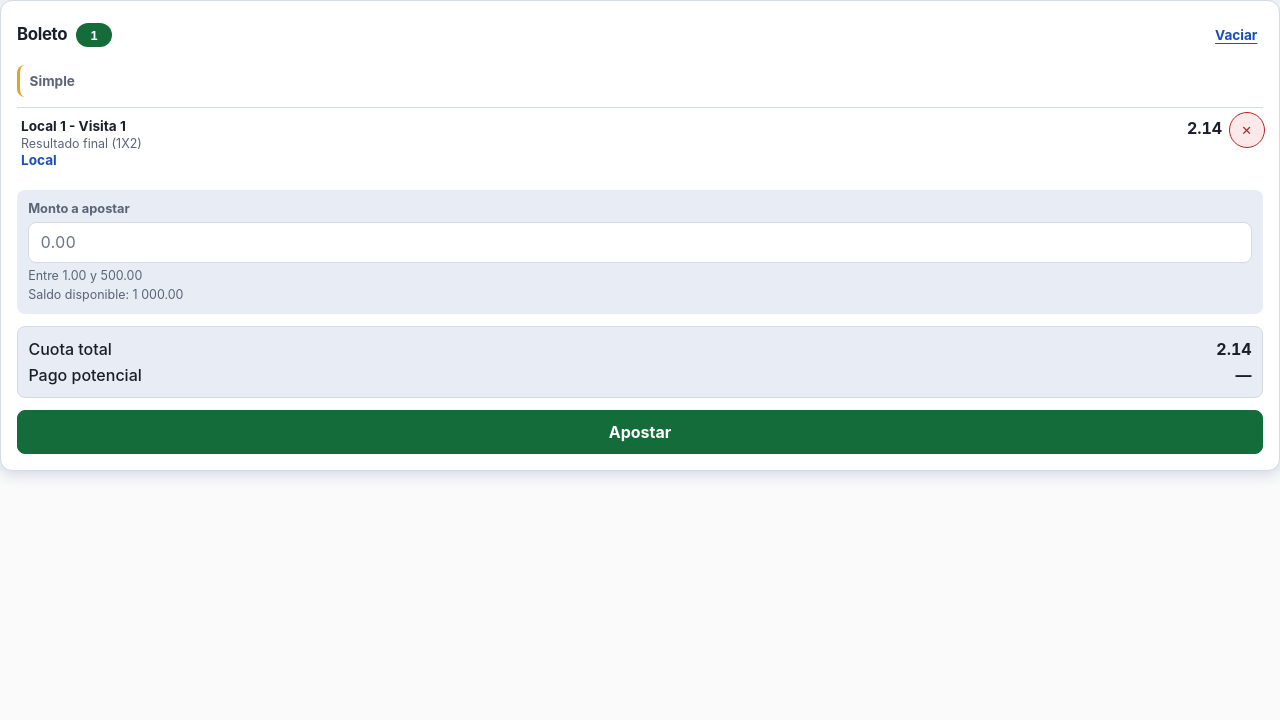
it: BetSlipComponent › saldo insuficiente del servidor: muestra el aviso y conserva el boleto
Type "10" into the field with id "stake" at (640,242), box [28,222,1252,263]
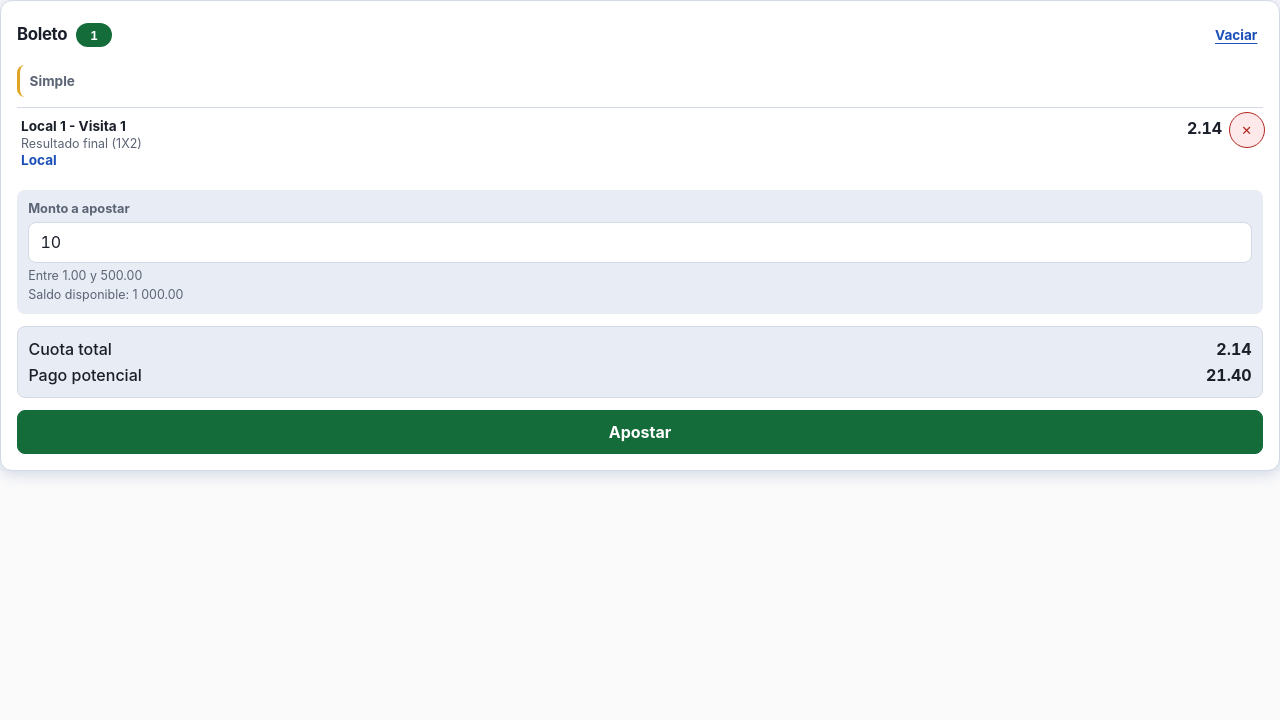
Click the button "Apostar" at (640,432), box [17,410,1263,454]
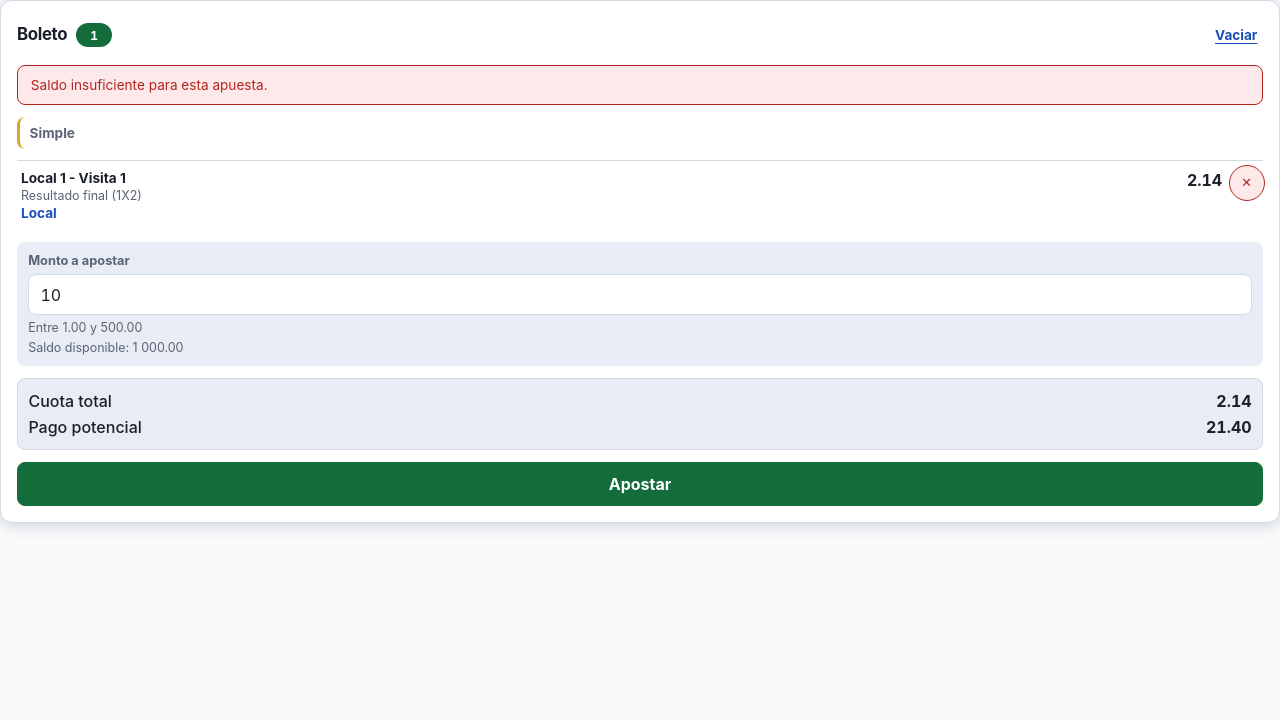
Now the message with class "error" shows "Saldo insuficiente", box [31,77,268,93]
